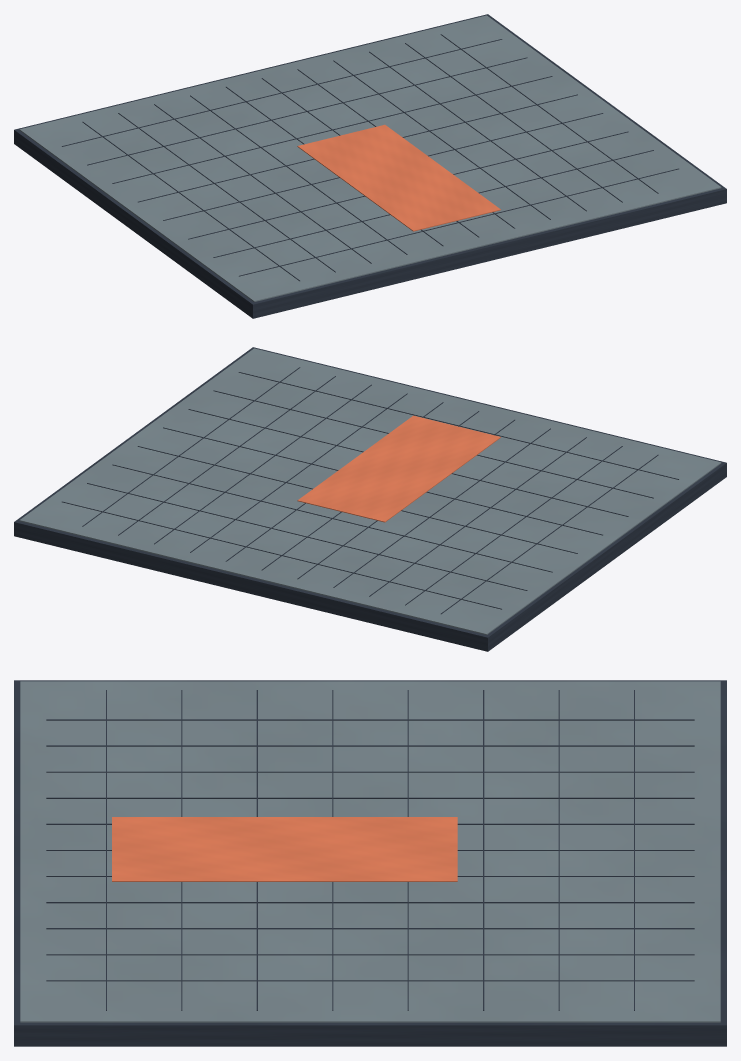
The model's file is atlas100-s024-a07.glb.
The picture shows the model from 3 angles, top to bottom: view 1: azimuth 30°, elevation 25°; view 2: azimuth 150°, elevation 25°; view 3: azimuth 270°, elevation 25°; orthographic projection. The views are drawn at different scales.
Parts seen in each view (by area): view 1: atlas100-s024-a07:part-001, atlas100-s024-a07:part-000, atlas100-s024-a07:part-021, atlas100-s024-a07:part-020, atlas100-s024-a07:part-013, atlas100-s024-a07:part-014, atlas100-s024-a07:part-015, atlas100-s024-a07:part-018, atlas100-s024-a07:part-017, atlas100-s024-a07:part-019, atlas100-s024-a07:part-016; view 2: atlas100-s024-a07:part-001, atlas100-s024-a07:part-000, atlas100-s024-a07:part-021, atlas100-s024-a07:part-015, atlas100-s024-a07:part-013, atlas100-s024-a07:part-020, atlas100-s024-a07:part-014, atlas100-s024-a07:part-016, atlas100-s024-a07:part-017, atlas100-s024-a07:part-018, atlas100-s024-a07:part-019; view 3: atlas100-s024-a07:part-001, atlas100-s024-a07:part-000, atlas100-s024-a07:part-021, atlas100-s024-a07:part-002, atlas100-s024-a07:part-003, atlas100-s024-a07:part-005, atlas100-s024-a07:part-004, atlas100-s024-a07:part-009, atlas100-s024-a07:part-010, atlas100-s024-a07:part-011, atlas100-s024-a07:part-012, atlas100-s024-a07:part-014 (+2 smaller).
Boxes of the visible parts, box(x1,y1,x2,y2) form: atlas100-s024-a07:part-001: box(19, 15, 721, 301); atlas100-s024-a07:part-000: box(14, 14, 726, 318); atlas100-s024-a07:part-021: box(297, 124, 500, 231); atlas100-s024-a07:part-020: box(239, 168, 678, 276); atlas100-s024-a07:part-013: box(62, 39, 502, 146); atlas100-s024-a07:part-014: box(87, 57, 527, 165); atlas100-s024-a07:part-015: box(112, 76, 552, 183); atlas100-s024-a07:part-018: box(188, 131, 628, 239); atlas100-s024-a07:part-017: box(163, 113, 603, 220); atlas100-s024-a07:part-019: box(213, 150, 653, 257); atlas100-s024-a07:part-016: box(138, 94, 577, 202); atlas100-s024-a07:part-001: box(19, 348, 721, 634); atlas100-s024-a07:part-000: box(14, 347, 726, 651); atlas100-s024-a07:part-021: box(297, 415, 500, 522); atlas100-s024-a07:part-015: box(112, 464, 552, 572); atlas100-s024-a07:part-013: box(62, 501, 501, 609); atlas100-s024-a07:part-020: box(238, 372, 678, 479); atlas100-s024-a07:part-014: box(87, 483, 527, 590); atlas100-s024-a07:part-016: box(137, 446, 577, 553); atlas100-s024-a07:part-017: box(163, 427, 602, 535); atlas100-s024-a07:part-018: box(188, 409, 628, 516); atlas100-s024-a07:part-019: box(213, 390, 653, 498); atlas100-s024-a07:part-001: box(20, 681, 720, 1022); atlas100-s024-a07:part-000: box(14, 680, 726, 1046); atlas100-s024-a07:part-021: box(112, 817, 457, 881); atlas100-s024-a07:part-002: box(46, 719, 694, 720); atlas100-s024-a07:part-003: box(46, 745, 694, 746); atlas100-s024-a07:part-005: box(46, 797, 694, 798); atlas100-s024-a07:part-004: box(46, 771, 694, 772); atlas100-s024-a07:part-009: box(46, 902, 694, 903); atlas100-s024-a07:part-010: box(46, 928, 694, 929); atlas100-s024-a07:part-011: box(46, 954, 694, 955); atlas100-s024-a07:part-012: box(46, 980, 694, 981); atlas100-s024-a07:part-014: box(558, 690, 559, 1010).
Bounding box in the file's own units: 11.9 × 0.404 × 10.4.
3 materials, 3 textured.
